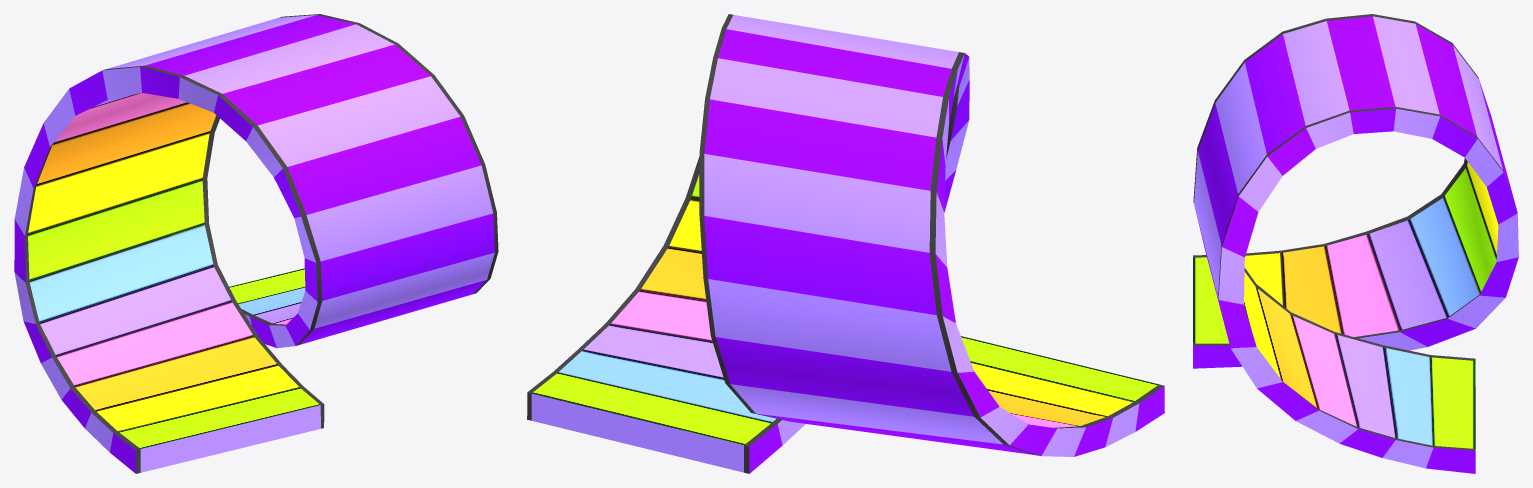
File: cocobay_loop_small.gltf
3 views of the same model, side by side, from view 1: azimuth 30°, elevation 25°; view 2: azimuth 150°, elevation 25°; view 3: azimuth 270°, elevation 25° (orthographic). The views are drawn at different scales.
Parts seen in each view (by area): view 1: cocobay_loop_small_glb; view 2: cocobay_loop_small_glb; view 3: cocobay_loop_small_glb.
Boxes of the visible parts, bbox=[...] form: cocobay_loop_small_glb: bbox=[14, 14, 498, 473]; cocobay_loop_small_glb: bbox=[527, 14, 1164, 473]; cocobay_loop_small_glb: bbox=[1193, 14, 1518, 473].
Size of what is drawn, in the model's own units: 4.5 by 3.37 by 3.17.
1 material, 1 textured.
